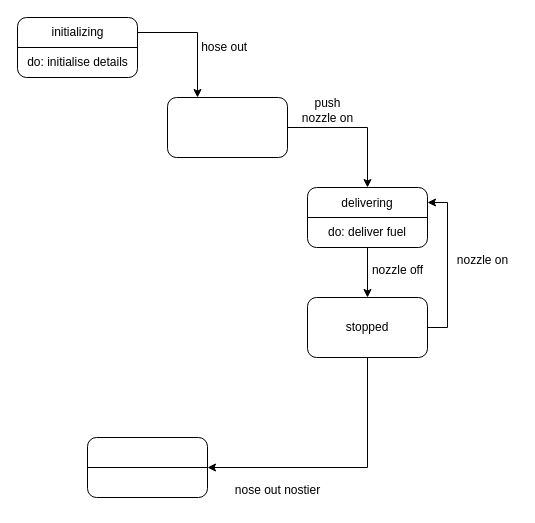
The diagram is 535 pixels wide and 523 high, and some of its shapes have lost their labels. The shapes that lost their labels are listed below. From the top down, each one's centre as x and y in pixels, then its label:
(x=227, y=127): ready
(x=147, y=467): paying do: charge price
